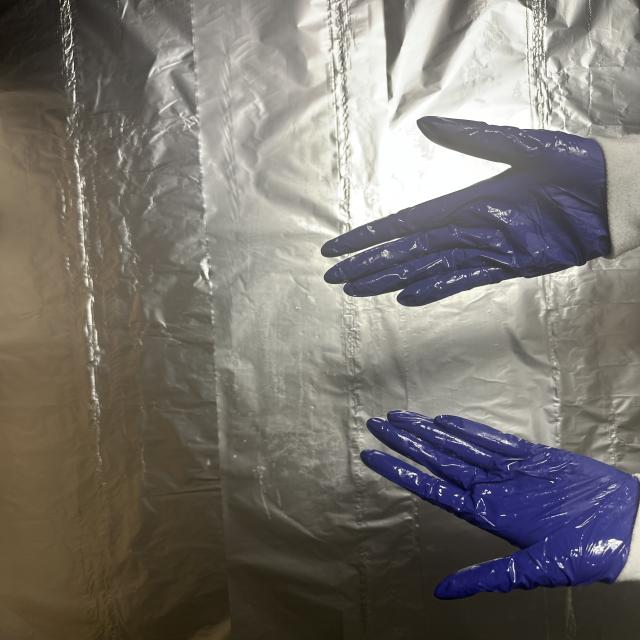gloves_contaminated: (321, 118, 611, 306), (361, 411, 640, 599)
